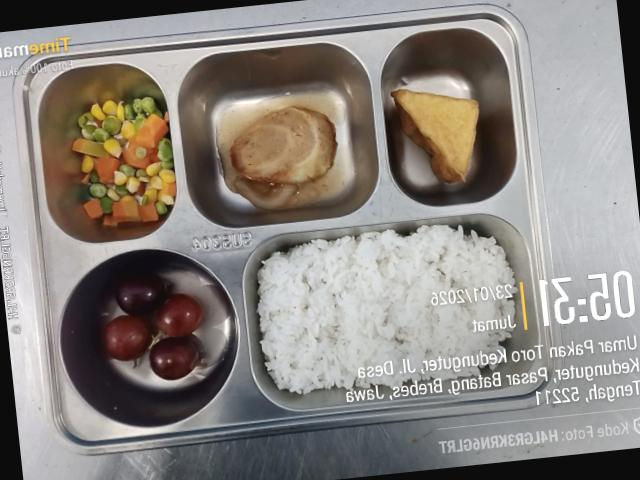ayam: (230, 107, 337, 184)
buah: (157, 294, 202, 337)
nasi: (257, 225, 517, 402)
sayur: (136, 114, 168, 148)
tahu: (391, 89, 479, 183)
